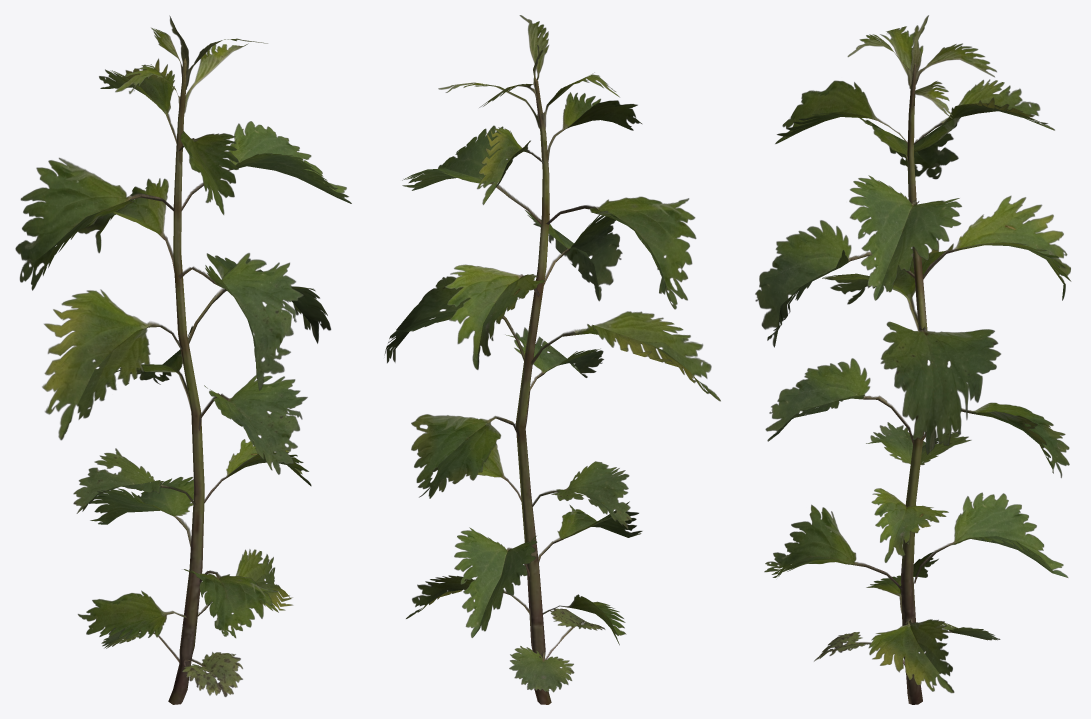
Rendered from nettle_plant.glb.
3 views of the same model, side by side, from view 1: azimuth 30°, elevation 25°; view 2: azimuth 150°, elevation 25°; view 3: azimuth 270°, elevation 25° (orthographic). The views are drawn at different scales.
Visible parts, largest first — view 1: nettle_plant_tall_a_LOD1; view 2: nettle_plant_tall_a_LOD1; view 3: nettle_plant_tall_a_LOD1.
Boxes of the visible parts, left/top/right/bottom form: nettle_plant_tall_a_LOD1: left=15, top=15, right=351, bottom=704; nettle_plant_tall_a_LOD1: left=384, top=15, right=720, bottom=704; nettle_plant_tall_a_LOD1: left=755, top=15, right=1071, bottom=704.
Bounding box in the file's own units: 0.1049 × 0.217 × 0.093.
Materials: 1 (1 with a texture image).
